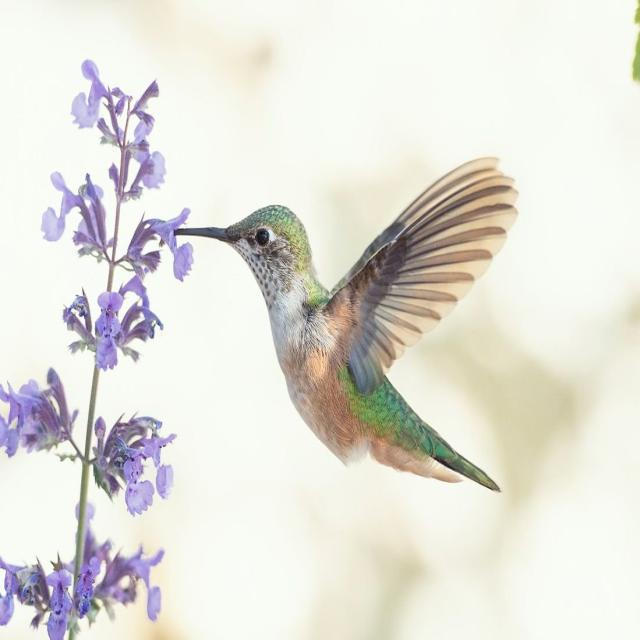Humming Bird: (178, 158, 513, 513)
